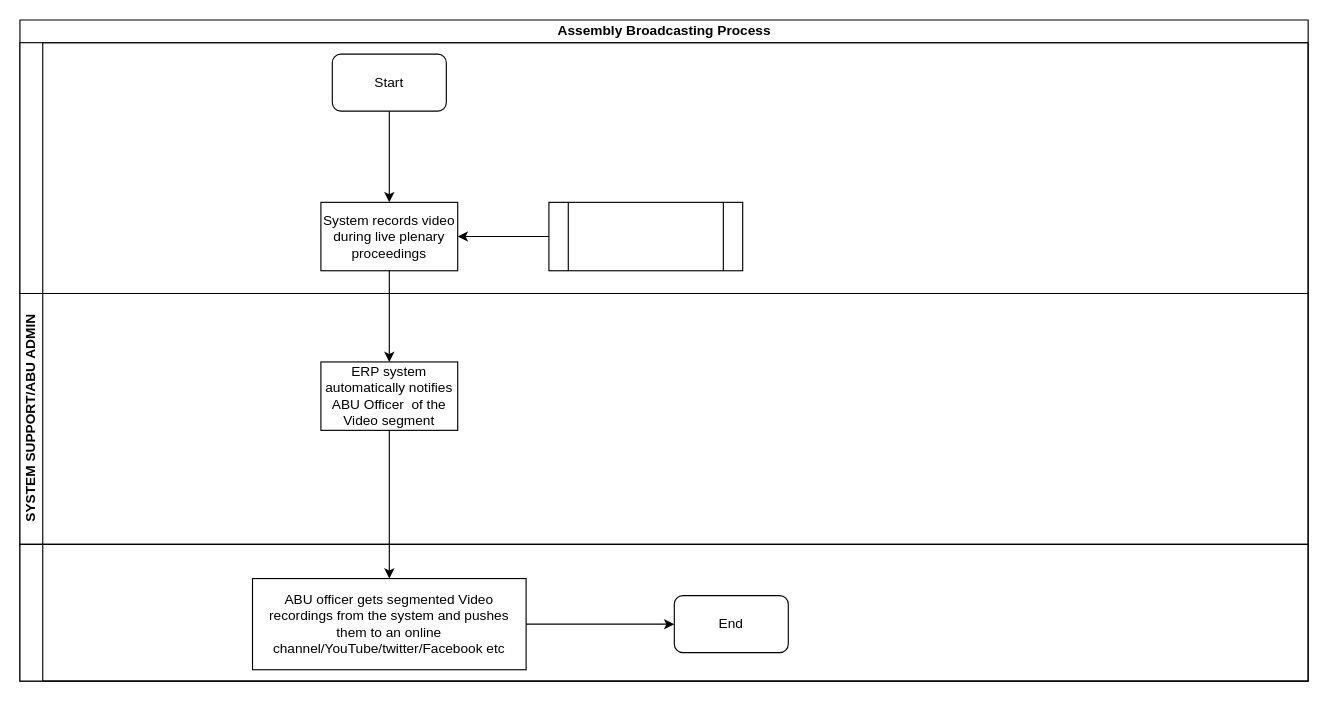
Some shapes in this 1328 by 701 pixel diagram are drawn without their labels. The box of each missing label's shape, as (x1, y1, x2, y2) in pixels:
ABU Officer notes down all the happenings observed at the plenary: (548, 201, 743, 271)
Hansard Editor: (19, 543, 1308, 681)
System Support/ABU Officer: (19, 42, 1308, 294)
